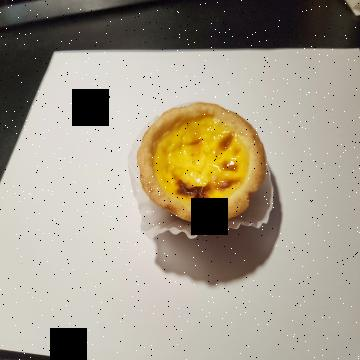EggTart: (138, 101, 266, 225)
